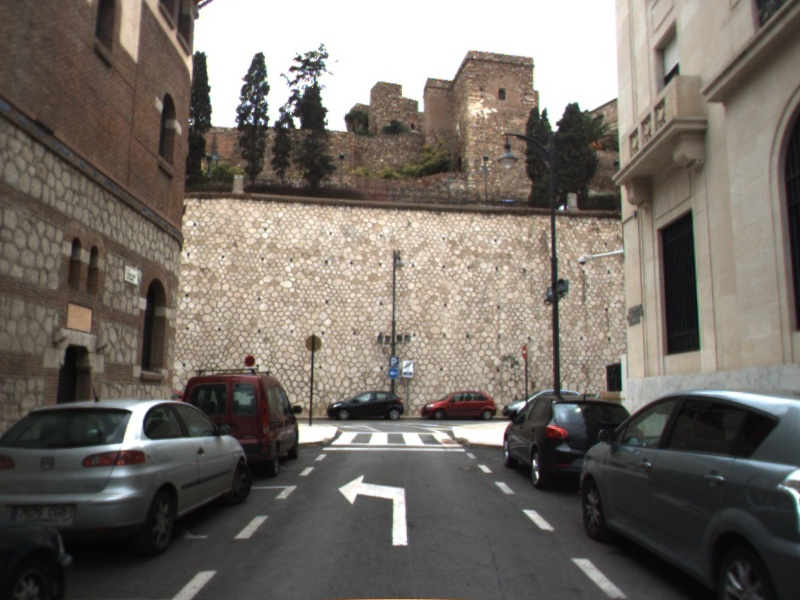LEFT: (336, 472, 410, 548)
